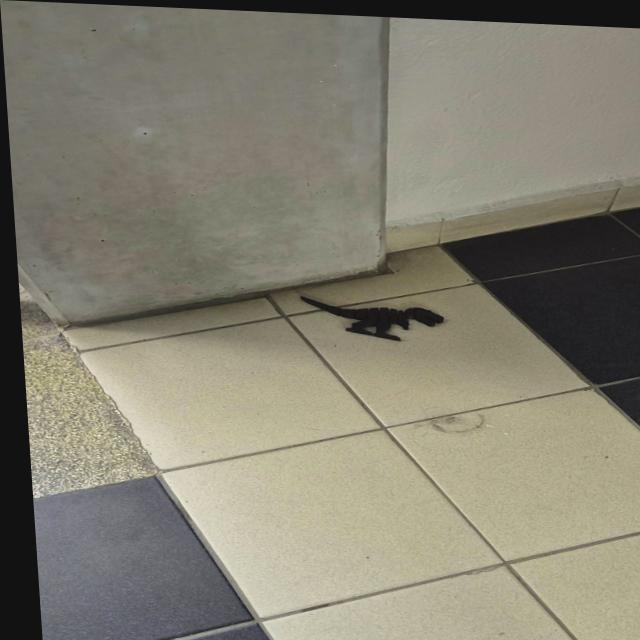dino: (299, 294, 446, 344)
